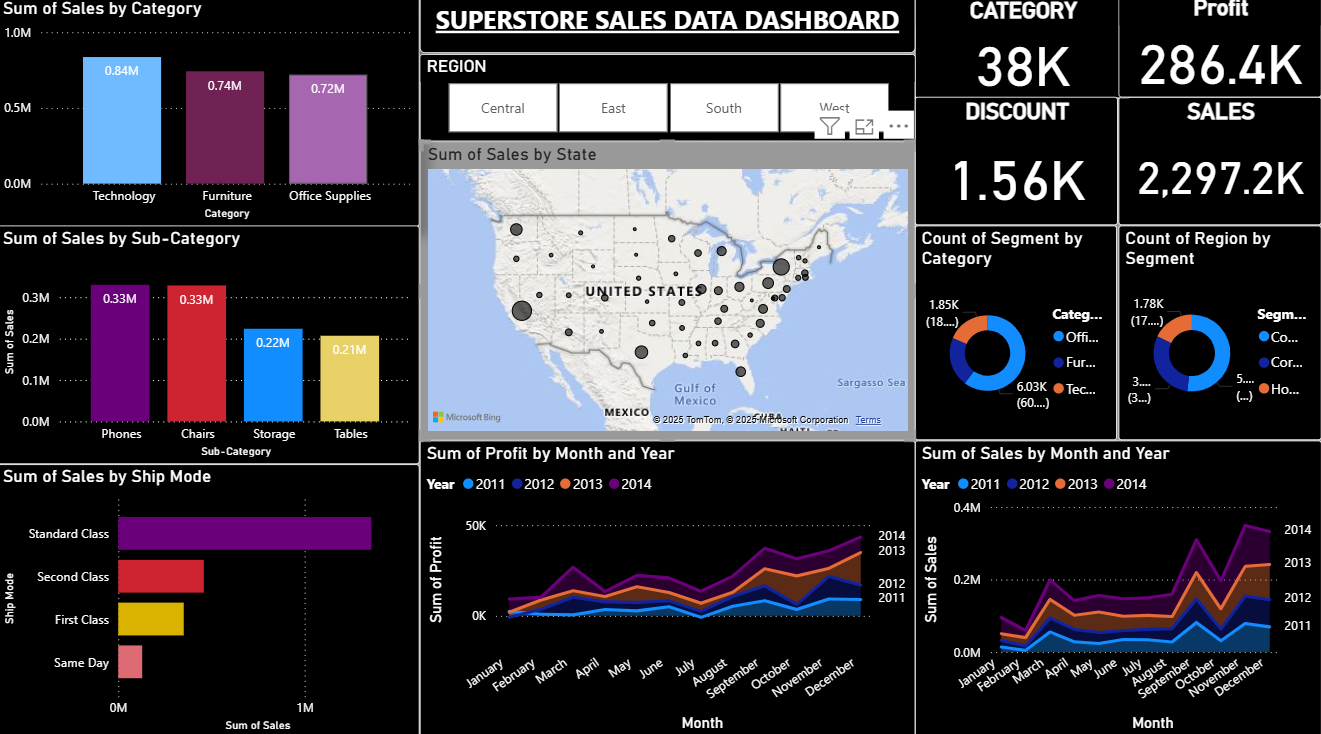

The page's visual inventory and layout, read from the dashboard file:
{"tool":"powerbi","page":{"name":"Page 1","canvas":[1280,720],"ordinal":0},"visuals":[{"type":"clusteredColumnChart","fields":{"Category":["Orders.Category"],"Y":["Sum(Orders.Sales)"]},"box":[0,2.4,409,223.2],"z":0},{"type":"stackedAreaChart","fields":{"Y":["Sum(Orders.Sales)"],"Series":["Orders.Order Date.Variation.Date Hierarchy.Year"],"Category":["Orders.Order Date.Variation.Date Hierarchy.Month"]},"box":[887.1,431.9,392.6,288.3],"z":1000},{"type":"stackedAreaChart","fields":{"Series":["Orders.Order Date.Variation.Date Hierarchy.Year"],"Y":["Sum(Orders.Profit)"],"Category":["Orders.Order Date.Variation.Date Hierarchy.Month"]},"box":[408.6,431.9,478.5,288.3],"z":2000},{"type":"columnChart","fields":{"Category":["Orders.Sub-Category"],"Y":["Sum(Orders.Sales)"]},"box":[0,224.5,408.6,230.7],"z":3000},{"type":"barChart","fields":{"Category":["Orders.Ship Mode"],"Y":["Sum(Orders.Sales)"]},"box":[0,455.2,408.6,265],"z":4000},{"type":"donutChart","fields":{"Category":["Orders.Category"],"Y":["CountNonNull(Orders.Segment)"]},"box":[887.1,224.5,195.1,207.4],"z":5000},{"type":"donutChart","fields":{"Y":["CountNonNull(Orders.Region)"],"Category":["Orders.Segment"]},"box":[1083.4,224.5,196.3,207.4],"z":6000},{"type":"card","title":"SALES","fields":{"Values":["Sum(Orders.Sales)"]},"box":[1083.4,100.6,196.3,123.9],"z":7000},{"type":"card","title":"CATEGORY","fields":{"Values":["Sum(Orders.Quantity)"]},"box":[887.1,2.5,208.6,99.4],"z":8000},{"type":"card","title":"Profit","fields":{"Values":["Sum(Orders.Profit)"]},"box":[1083.4,0,196.3,100.6],"z":9000},{"type":"card","title":"DISCOUNT","fields":{"Values":["Sum(Orders.Discount)"]},"box":[887.1,100.6,196.3,123.9],"z":10000},{"type":"map","fields":{"Category":["Orders.State"],"Size":["Sum(Orders.Sales)"]},"box":[408.6,142.3,478.5,289.6],"z":11000},{"type":"slicer","title":"REGION","fields":{"Values":["Orders.Region"]},"box":[408.6,58.9,478.5,84.7],"z":12000},{"type":"textbox","box":[408.6,1.2,478.5,56.4],"z":13000}]}

Visuals, with their boxes in screenshot pixels (x1, y1, x2, y2), scaled from the page's 1280x720 canvas onto the 1321x734 screenshot:
clusteredColumnChart - Orders.Category x Sum(Orders.Sales): bbox=(0, 2, 422, 230)
stackedAreaChart - Sum(Orders.Sales) x Orders.Order Date.Variation.Date Hierarchy.Year: bbox=(916, 440, 1320, 733)
stackedAreaChart - Orders.Order Date.Variation.Date Hierarchy.Year x Sum(Orders.Profit): bbox=(422, 440, 916, 733)
columnChart - Orders.Sub-Category x Sum(Orders.Sales): bbox=(0, 229, 422, 464)
barChart - Orders.Ship Mode x Sum(Orders.Sales): bbox=(0, 464, 422, 733)
donutChart - Orders.Category x CountNonNull(Orders.Segment): bbox=(916, 229, 1117, 440)
donutChart - CountNonNull(Orders.Region) x Orders.Segment: bbox=(1118, 229, 1320, 440)
"SALES" card: bbox=(1118, 103, 1320, 229)
"CATEGORY" card: bbox=(916, 3, 1131, 104)
"Profit" card: bbox=(1118, 0, 1320, 103)
"DISCOUNT" card: bbox=(916, 103, 1118, 229)
map - Orders.State x Sum(Orders.Sales): bbox=(422, 145, 916, 440)
"REGION" slicer: bbox=(422, 60, 916, 146)
textbox: bbox=(422, 1, 916, 59)
